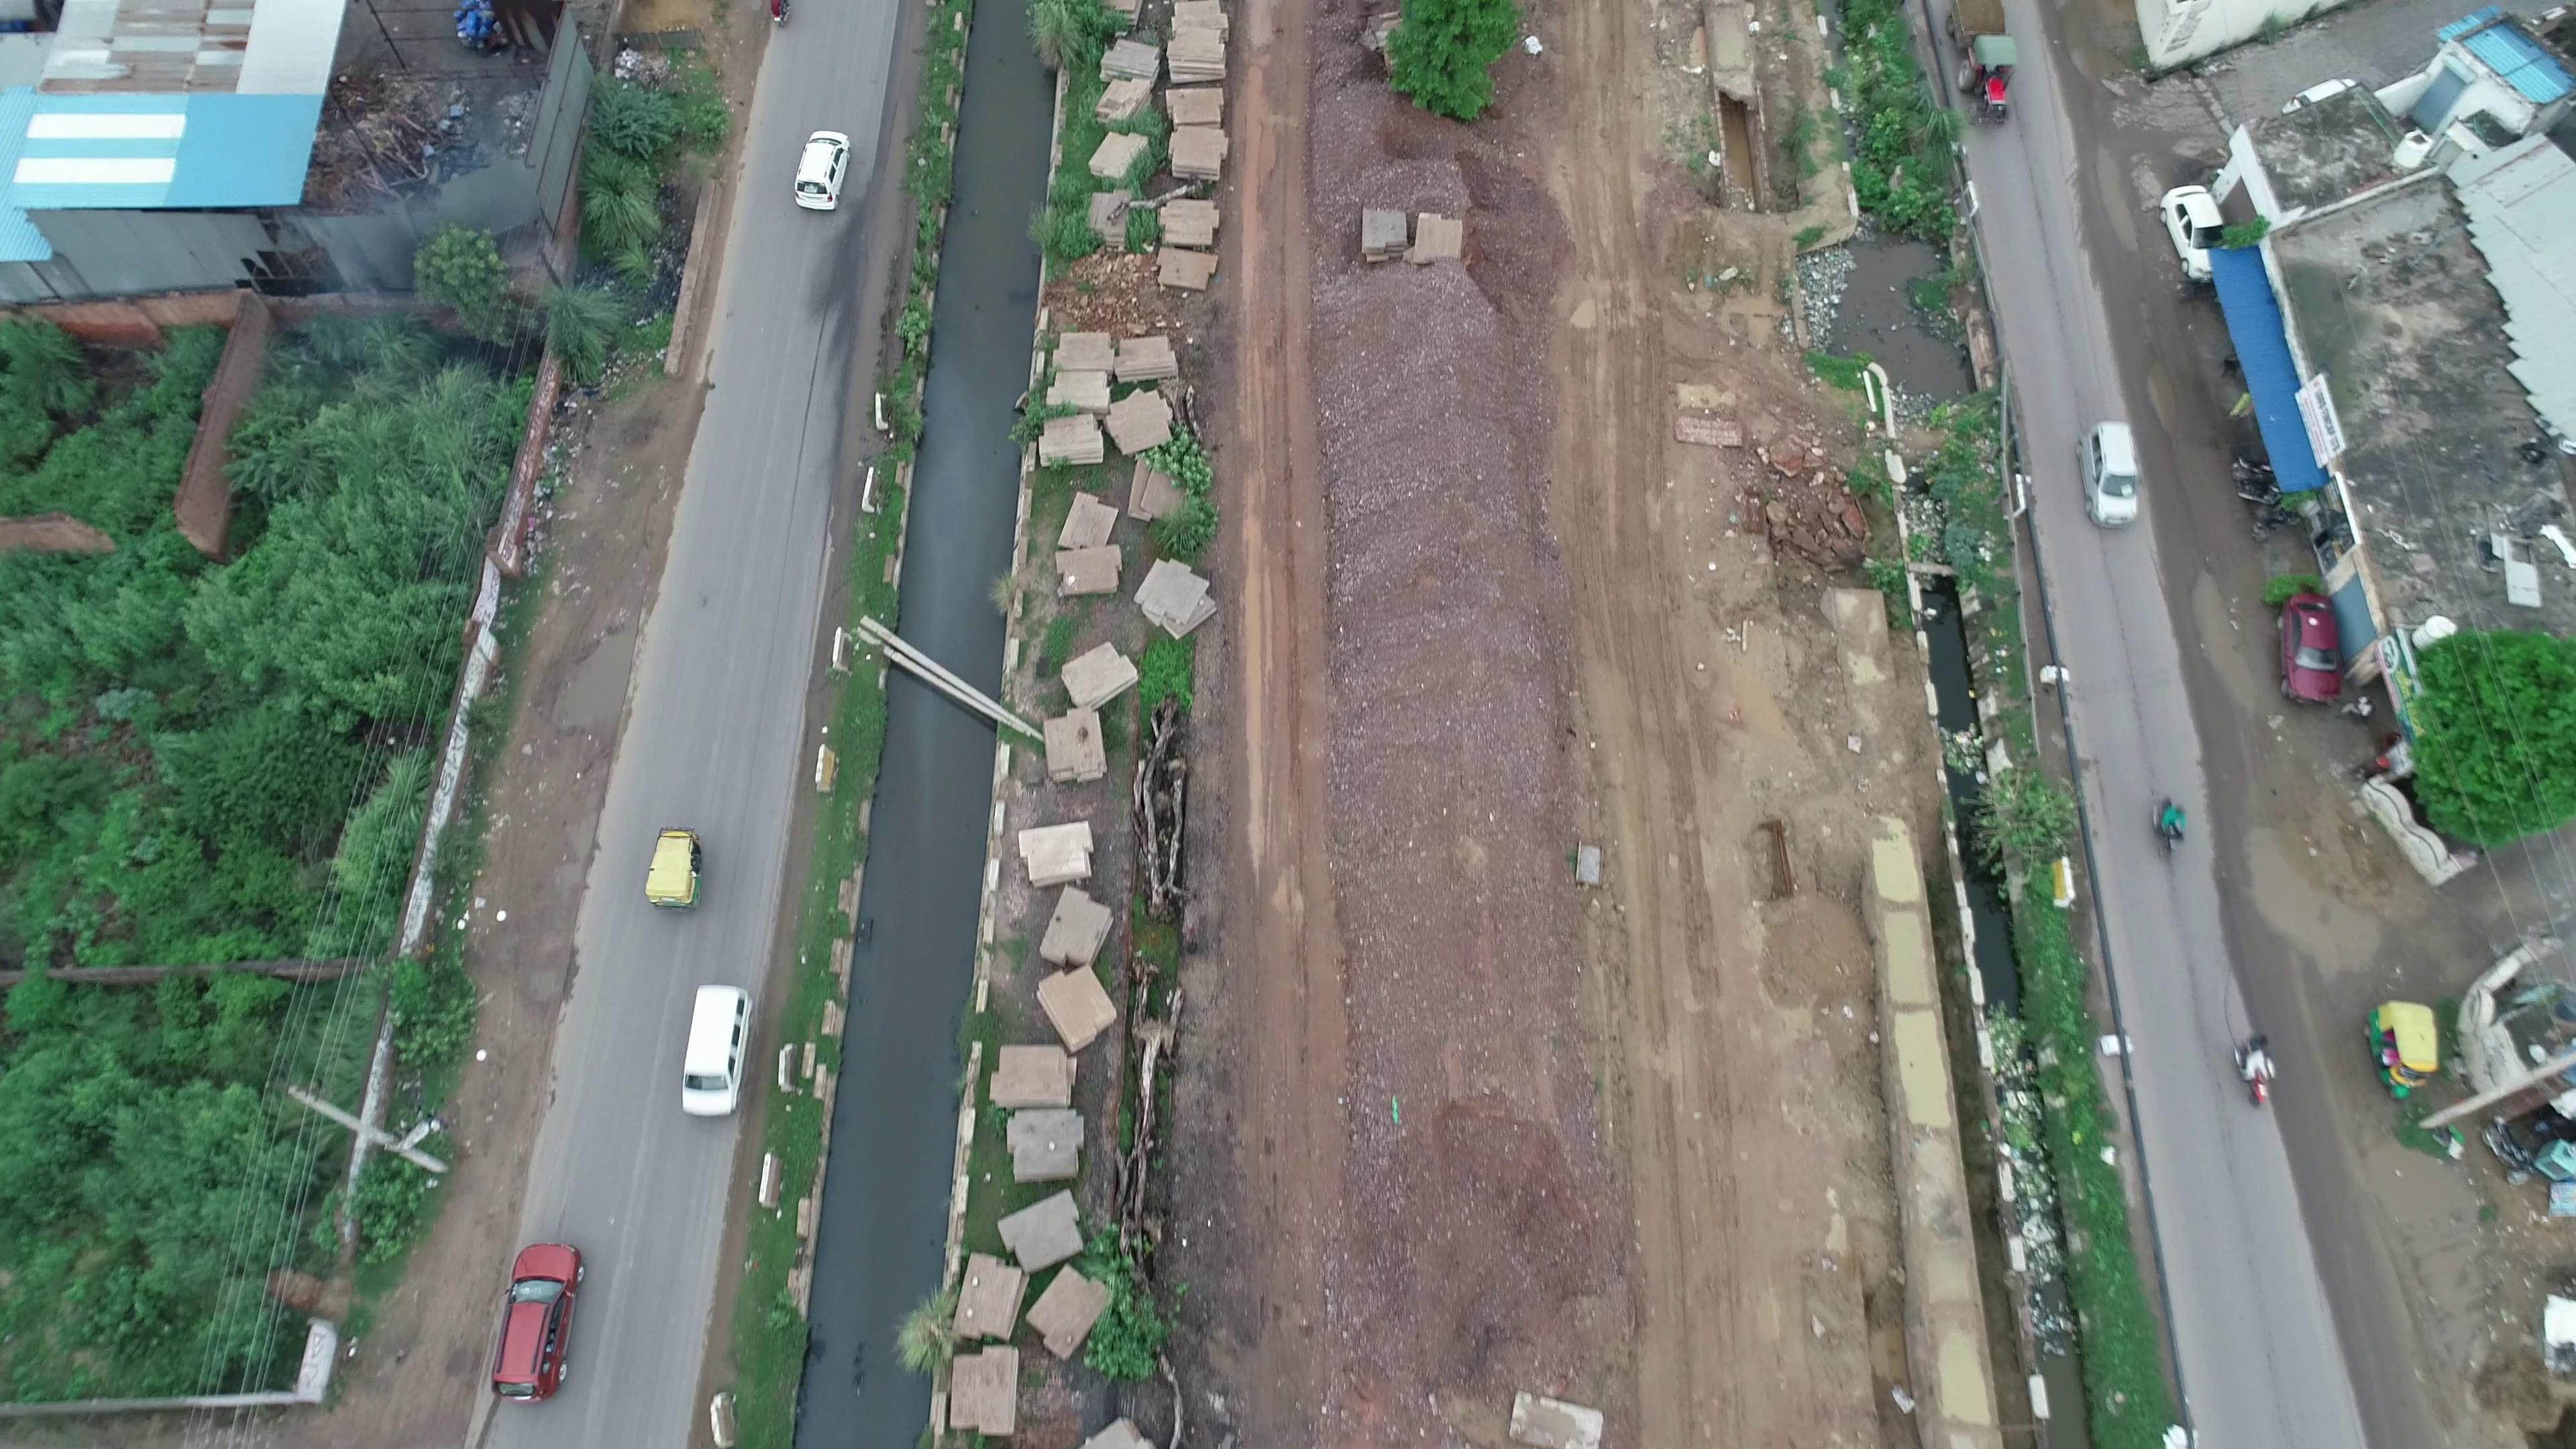Waterlogging: (2226, 824, 2399, 991), (2178, 547, 2270, 727)
